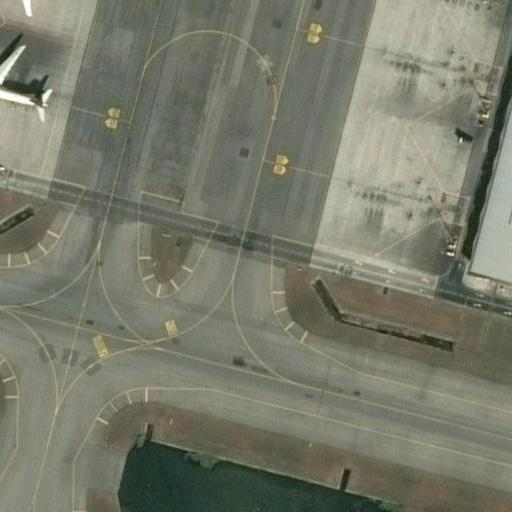Aircraft: (0, 30, 50, 144), (0, 0, 83, 12)
